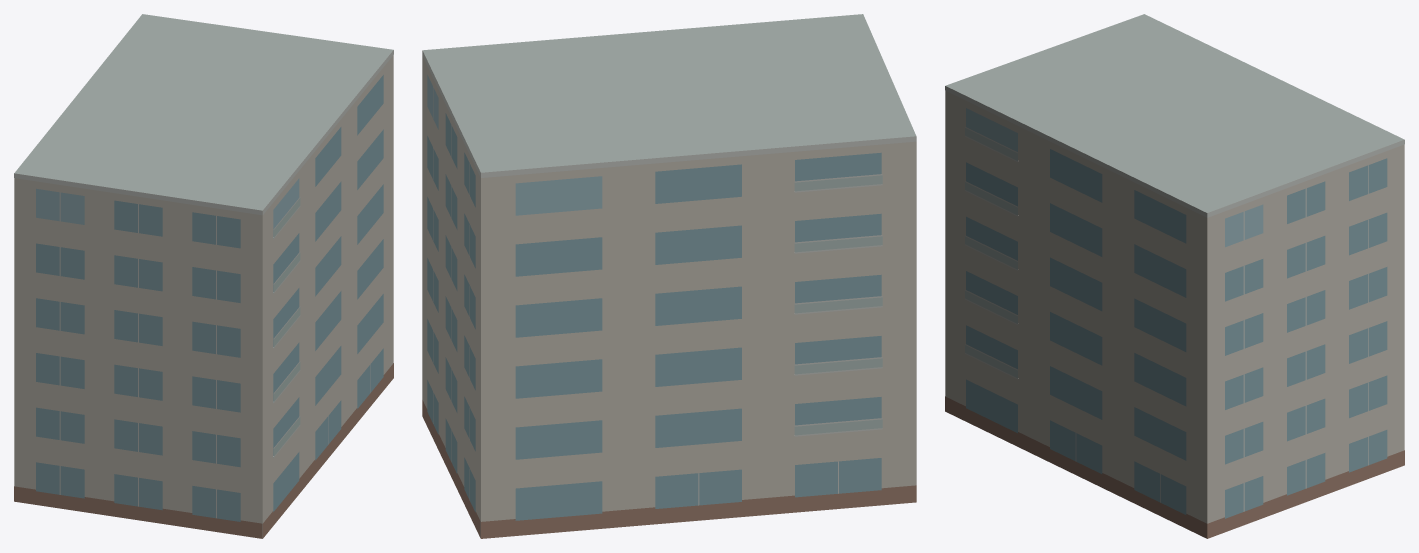
Rendered from survey-upis-32706301.glb.
The picture shows the model from 3 angles, left to right: view 1: azimuth 30°, elevation 25°; view 2: azimuth 150°, elevation 25°; view 3: azimuth 270°, elevation 25°; orthographic projection. The views are drawn at different scales.
Visible parts, largest first — view 1: survey-upis-32706301.tmp; view 2: survey-upis-32706301.tmp; view 3: survey-upis-32706301.tmp.
Part boxes in pixels (x1,y1,x2,y2): survey-upis-32706301.tmp: (14,14,393,538); survey-upis-32706301.tmp: (422,14,916,538); survey-upis-32706301.tmp: (945,14,1404,538).
Size of the model in its own units: 22.04 by 16.8 by 21.49.
